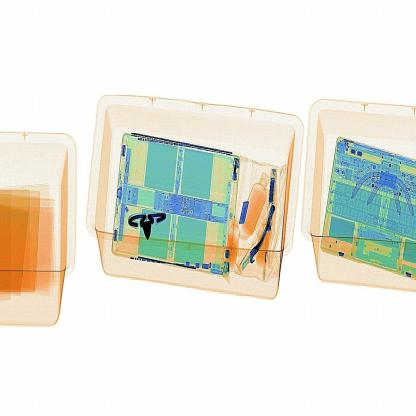gun: (115, 195, 180, 253)
